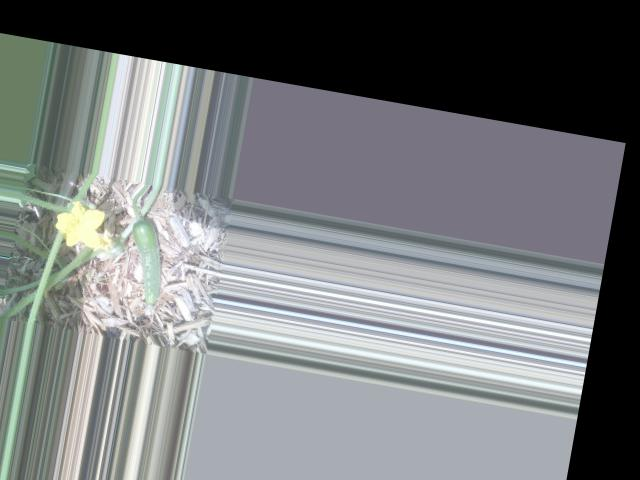cucumber: (118, 216, 172, 314)
